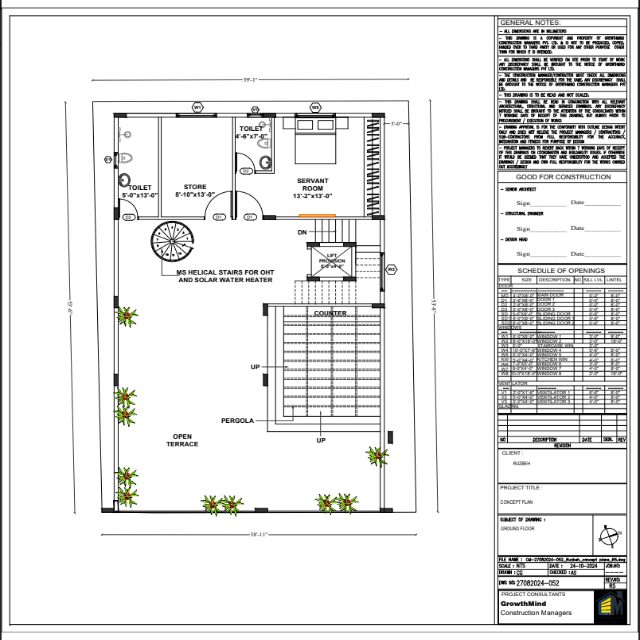window: (294, 112, 337, 118), (175, 112, 218, 118), (379, 252, 385, 292), (246, 112, 264, 118), (113, 152, 119, 169)
